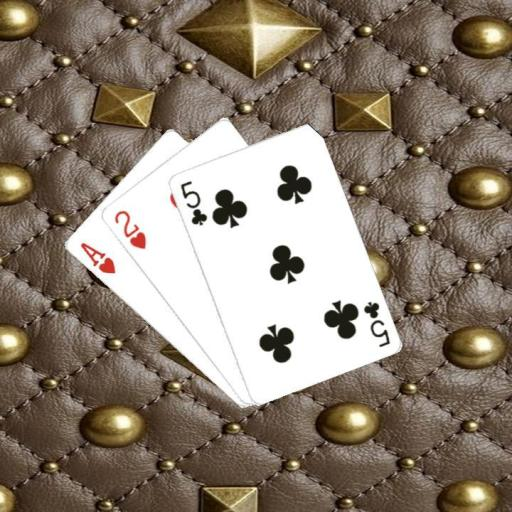2H: (110, 206, 148, 251)
5C: (177, 177, 209, 227), (360, 298, 391, 349)
AH: (76, 239, 117, 276)
